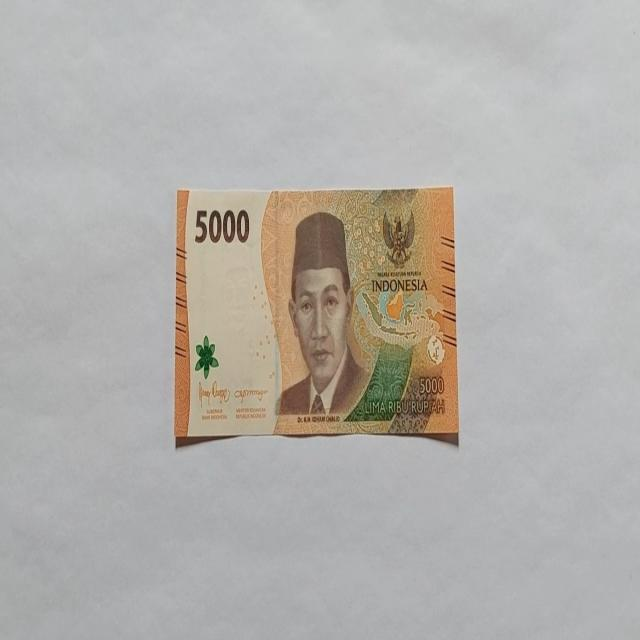lima ribu rupiah: (174, 185, 458, 447), (275, 210, 369, 418)
